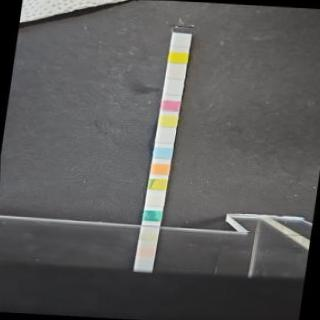mark: (150, 162, 170, 175), (169, 50, 187, 64), (142, 210, 162, 222), (164, 81, 182, 94), (172, 34, 190, 47), (153, 147, 172, 159), (155, 129, 174, 141), (158, 114, 177, 126), (148, 178, 166, 190), (160, 98, 178, 110), (166, 66, 184, 78), (146, 195, 164, 206)
